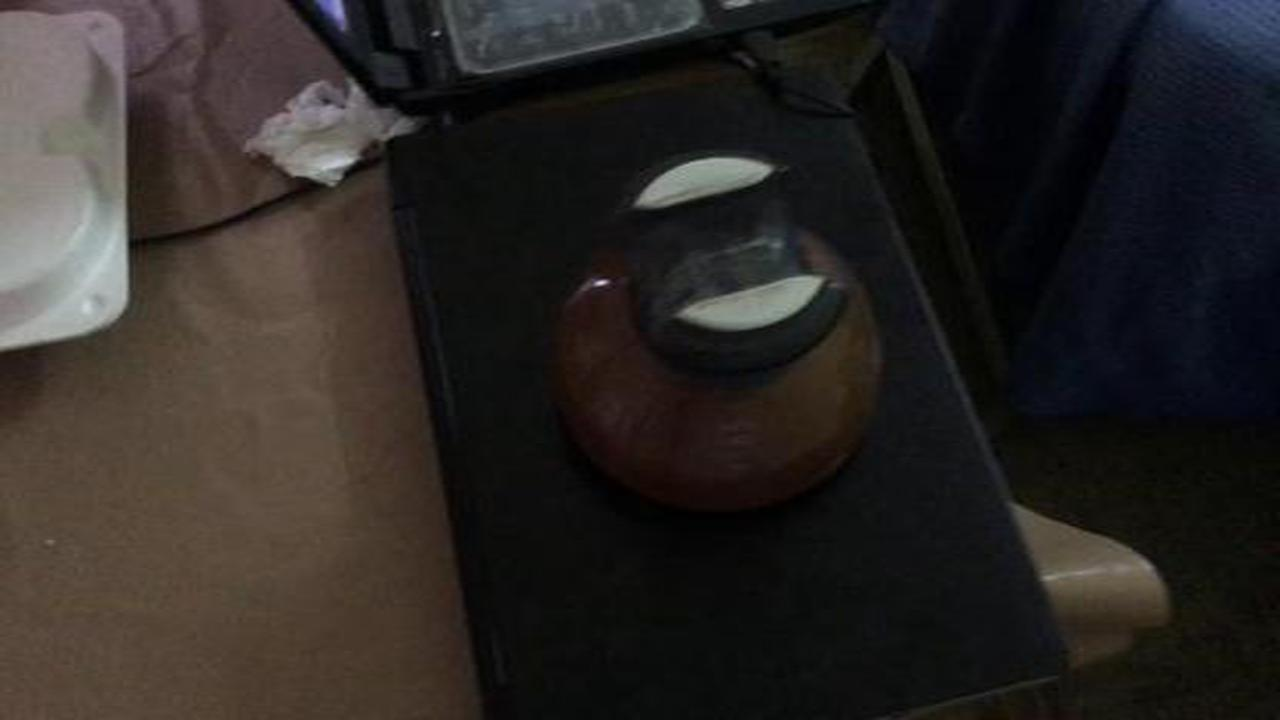insulator_pin: (527, 126, 911, 544)
